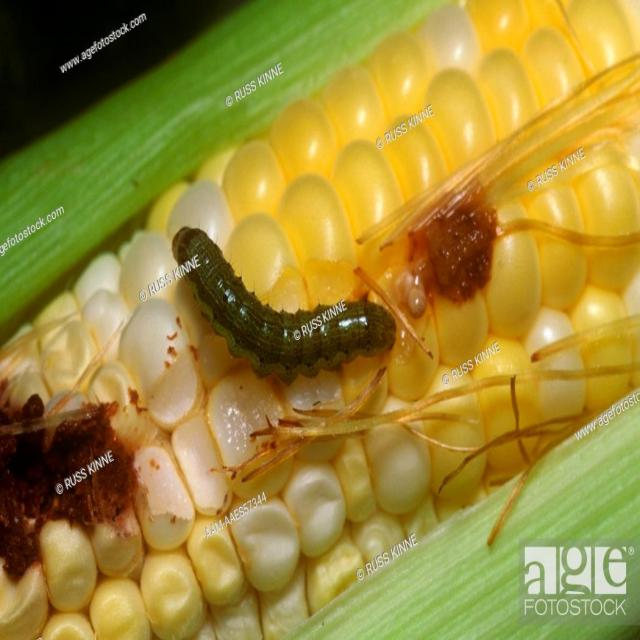cornborer-Larva-: (162, 217, 402, 368)
